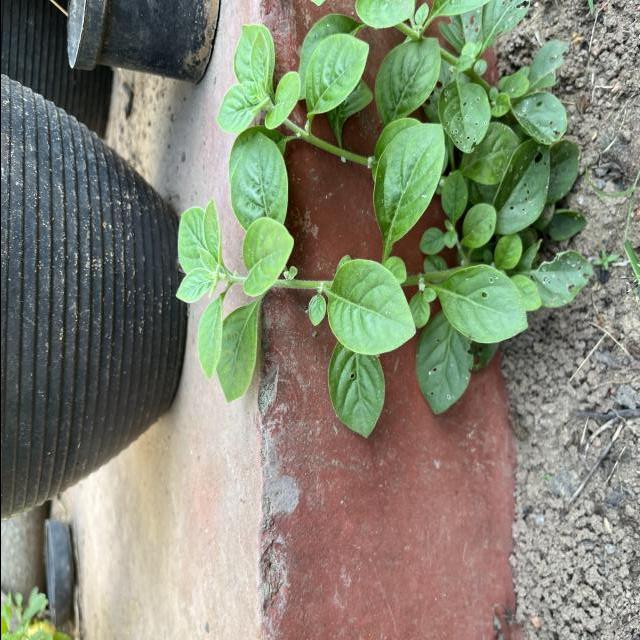Aerva lanata: (324, 257, 418, 358), (225, 128, 290, 236), (300, 30, 370, 120), (174, 204, 212, 276)
